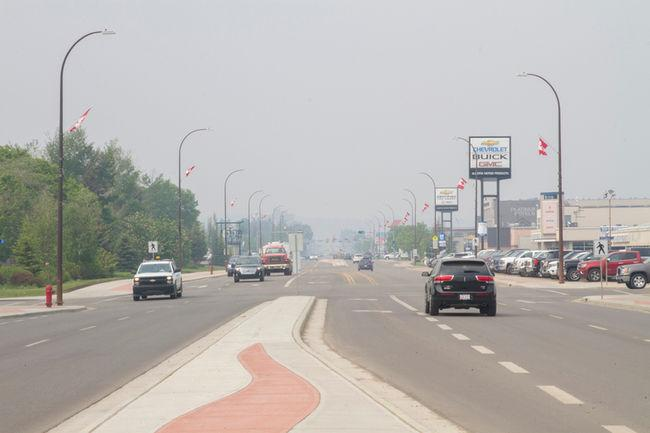backpack: (624, 261, 650, 290)
bench: (620, 259, 650, 289)
bicycle: (565, 251, 600, 280), (624, 261, 650, 290), (561, 254, 586, 281), (615, 262, 643, 286), (550, 261, 582, 281), (566, 264, 582, 281)
boat: (615, 255, 650, 284), (260, 247, 293, 275), (260, 241, 290, 262)
bus: (583, 249, 647, 281), (228, 253, 267, 282), (260, 242, 293, 276), (240, 250, 277, 279), (270, 239, 300, 272), (287, 232, 304, 269), (260, 241, 288, 258), (263, 254, 289, 272), (274, 239, 292, 262), (261, 250, 288, 265), (288, 233, 304, 253), (358, 253, 374, 271)
car: (424, 255, 498, 315), (427, 247, 506, 292), (472, 240, 555, 275), (550, 248, 618, 281), (132, 259, 184, 301), (576, 249, 645, 280), (500, 245, 565, 276), (437, 244, 503, 270), (566, 245, 619, 270), (424, 252, 478, 275), (540, 250, 583, 278), (441, 253, 496, 274), (228, 253, 267, 282), (593, 259, 640, 283), (579, 253, 619, 281), (609, 253, 646, 282), (240, 250, 277, 279), (515, 250, 554, 277), (253, 255, 293, 281), (550, 239, 601, 259), (494, 248, 531, 275), (259, 245, 292, 275), (619, 259, 650, 289), (569, 252, 601, 281), (504, 247, 546, 269), (133, 260, 179, 280), (603, 249, 644, 271), (477, 251, 502, 286), (554, 251, 592, 274), (486, 246, 524, 269), (461, 249, 499, 272), (477, 247, 512, 271), (571, 241, 606, 264), (531, 250, 560, 277), (315, 269, 357, 287), (544, 247, 580, 267), (561, 254, 586, 281), (509, 251, 537, 275), (544, 258, 575, 279), (564, 250, 598, 269), (538, 242, 578, 258), (200, 253, 235, 271), (536, 249, 568, 268), (426, 248, 457, 266), (556, 253, 574, 282), (453, 236, 479, 256), (519, 249, 548, 266), (617, 261, 644, 279), (420, 251, 447, 269), (629, 265, 650, 288), (260, 241, 288, 258), (263, 254, 289, 272), (223, 255, 245, 276), (580, 253, 603, 273), (573, 255, 590, 282), (530, 249, 558, 265), (627, 258, 649, 278), (476, 248, 499, 267), (582, 257, 600, 281), (518, 258, 542, 276), (621, 262, 639, 286), (607, 248, 643, 260), (581, 240, 608, 256), (441, 250, 476, 262), (344, 271, 374, 285), (316, 258, 350, 270), (261, 250, 288, 265), (265, 260, 292, 275), (557, 251, 588, 264), (569, 262, 594, 278), (565, 252, 584, 273), (539, 248, 572, 260), (478, 252, 495, 275), (203, 250, 220, 273), (536, 253, 552, 277), (541, 258, 560, 278), (553, 257, 567, 284), (511, 258, 532, 276), (479, 247, 508, 260), (624, 272, 646, 289), (410, 250, 433, 266), (353, 251, 373, 269), (546, 262, 564, 282), (530, 252, 545, 276), (172, 267, 184, 297), (487, 250, 504, 271), (542, 250, 559, 271), (489, 247, 511, 263), (575, 252, 602, 265), (570, 247, 599, 259), (259, 253, 278, 271), (306, 255, 330, 269), (615, 264, 632, 283), (272, 244, 291, 261), (383, 248, 407, 261), (565, 261, 581, 280), (621, 250, 646, 262), (206, 255, 229, 268), (564, 249, 591, 260), (626, 247, 650, 259), (634, 247, 650, 265), (201, 252, 223, 265), (506, 248, 532, 259), (487, 245, 513, 256), (534, 248, 559, 259), (426, 249, 442, 266), (632, 255, 650, 270), (400, 250, 419, 264), (470, 247, 492, 259), (200, 248, 213, 268), (335, 272, 355, 285), (518, 248, 544, 258), (363, 254, 379, 270), (357, 256, 374, 271), (587, 264, 602, 281), (464, 238, 478, 256), (537, 243, 558, 255), (351, 258, 370, 271), (388, 251, 410, 262), (373, 255, 393, 267), (393, 248, 413, 260), (432, 248, 450, 261), (312, 253, 333, 264), (259, 259, 271, 278), (147, 240, 160, 257), (456, 248, 478, 258), (477, 246, 497, 257), (390, 257, 412, 267), (351, 253, 365, 268), (409, 250, 423, 265), (593, 240, 607, 255), (422, 253, 436, 268), (225, 256, 236, 275), (316, 257, 335, 268), (448, 250, 474, 258), (371, 251, 387, 264), (329, 258, 352, 267), (374, 252, 394, 262), (306, 253, 326, 263), (305, 254, 319, 267), (283, 258, 293, 275), (348, 252, 363, 263), (384, 251, 400, 261)
cell phone: (132, 259, 183, 301)
chair: (556, 251, 594, 281), (543, 252, 579, 280), (619, 258, 650, 289)
fire hydrant: (624, 261, 650, 290), (42, 281, 57, 309), (53, 282, 63, 305), (44, 283, 53, 307)
handbag: (624, 261, 650, 290)
kite: (175, 163, 199, 242), (177, 126, 212, 177), (223, 168, 245, 210), (232, 188, 270, 208), (67, 104, 93, 133), (624, 261, 650, 290), (224, 168, 245, 190), (78, 105, 94, 129), (248, 190, 270, 205), (226, 197, 238, 214), (397, 210, 410, 225), (184, 163, 197, 177), (456, 176, 468, 191), (227, 196, 242, 208)
motorcycle: (131, 256, 185, 302), (620, 259, 650, 289), (561, 251, 592, 280), (550, 261, 582, 281), (566, 264, 582, 281), (357, 256, 374, 271), (225, 256, 237, 275)
parking meter: (225, 256, 237, 275)
person: (580, 252, 633, 280), (611, 250, 645, 283), (531, 249, 567, 278), (510, 250, 547, 277), (619, 258, 650, 289), (551, 250, 583, 280), (564, 251, 591, 280), (573, 255, 590, 282), (550, 263, 570, 282), (269, 242, 286, 263), (558, 256, 571, 282), (358, 253, 374, 271), (204, 248, 214, 274), (555, 260, 565, 285), (615, 264, 627, 284), (44, 283, 53, 307), (224, 256, 235, 275), (283, 255, 293, 275), (438, 231, 447, 251)
sports ball: (624, 261, 650, 290)
traffic light: (624, 261, 650, 290), (476, 221, 488, 246), (456, 176, 468, 191), (438, 231, 447, 250)
train: (288, 228, 309, 258), (288, 233, 304, 254)
truck: (423, 256, 498, 316), (472, 240, 555, 275), (550, 248, 618, 281), (133, 259, 184, 301), (576, 249, 645, 280), (240, 240, 296, 277), (599, 256, 650, 286), (524, 249, 568, 277), (558, 246, 604, 271), (228, 253, 267, 282), (240, 250, 277, 279), (544, 253, 583, 280), (602, 249, 643, 274), (565, 251, 600, 280), (509, 250, 548, 276), (256, 238, 293, 265), (259, 245, 292, 275), (270, 239, 300, 272), (494, 248, 530, 275), (620, 259, 650, 289), (538, 250, 575, 273), (282, 233, 304, 270), (267, 234, 298, 260), (478, 248, 513, 271), (561, 254, 586, 281), (290, 231, 313, 259), (579, 255, 603, 281), (606, 247, 645, 263), (540, 252, 561, 279), (260, 241, 288, 258), (263, 254, 289, 272), (475, 249, 501, 267), (223, 255, 245, 276), (280, 236, 296, 263), (287, 232, 304, 257), (316, 258, 350, 270), (261, 250, 288, 265), (280, 244, 293, 273), (286, 238, 299, 266), (273, 241, 291, 257), (626, 247, 650, 259), (463, 237, 478, 255), (147, 240, 160, 260), (352, 251, 370, 265), (358, 255, 373, 271), (424, 250, 439, 266)
umbrella: (260, 242, 286, 255)
